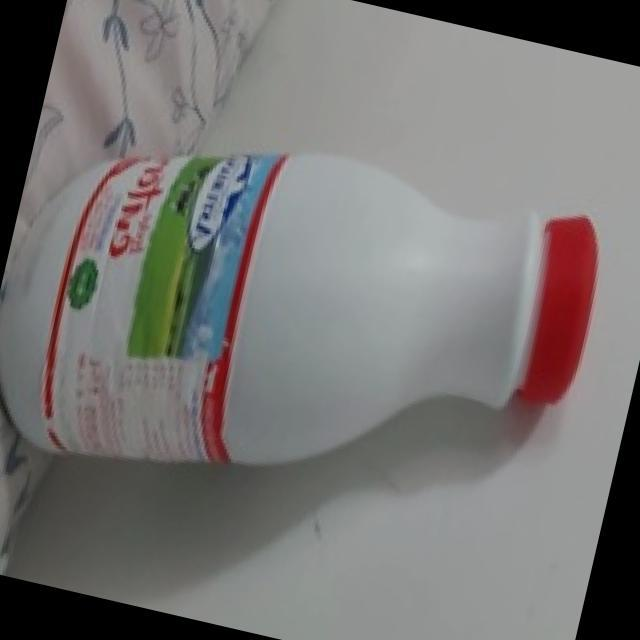good: (0, 82, 610, 547)
